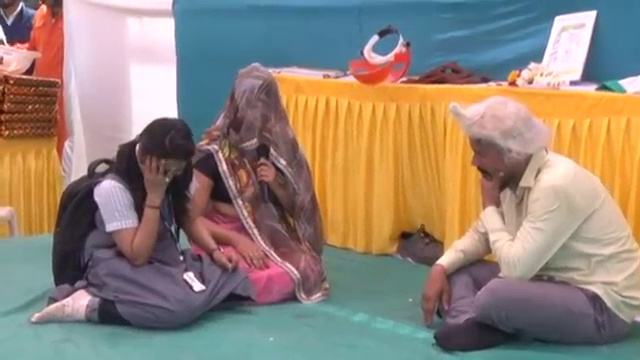helmet: (0, 45, 43, 78)
helmet_off: (454, 98, 543, 195), (126, 118, 191, 187), (225, 67, 280, 137)
person: (410, 95, 640, 334), (21, 120, 231, 324), (190, 68, 323, 304), (27, 2, 65, 84), (0, 0, 37, 78)
